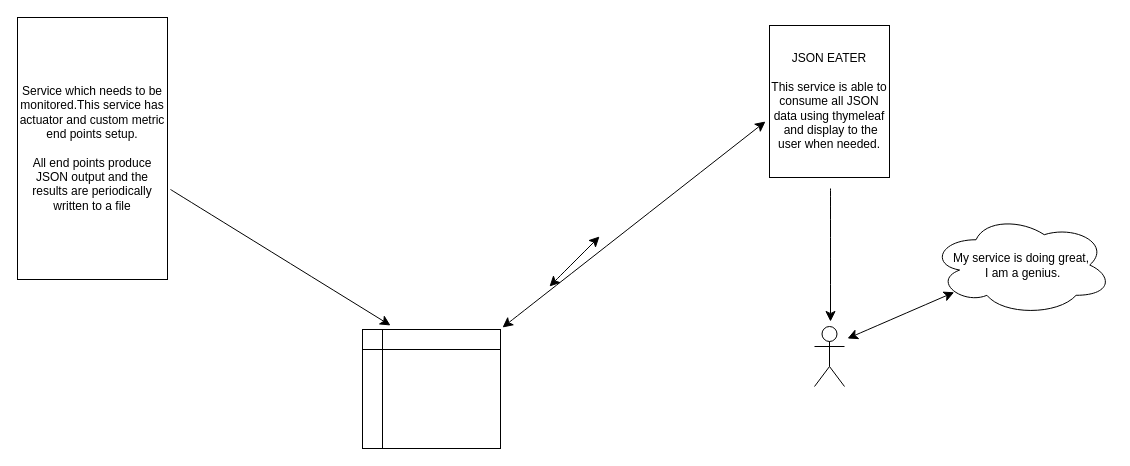
This 1130x466 diagram has some shape labels left out. Each missing label, with the centre of its shape:
"Actor" goes at point 829,356.
"JSON JSON JSON And more JSON" goes at point 431,388.
